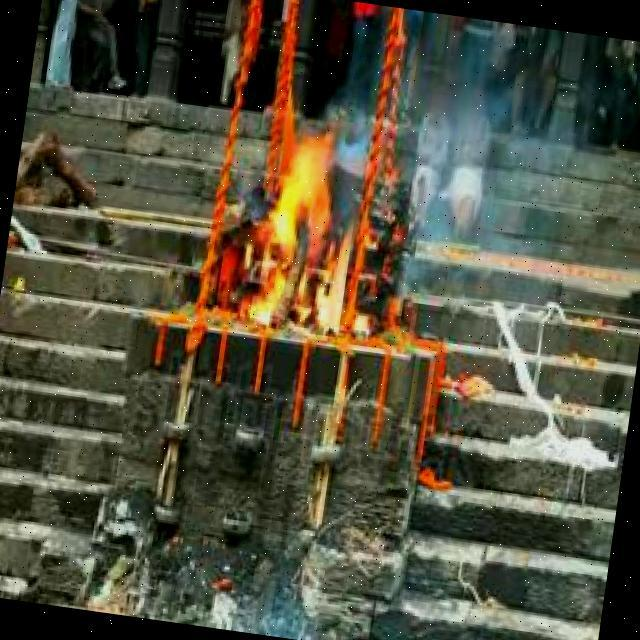Fire: (241, 125, 395, 344)
